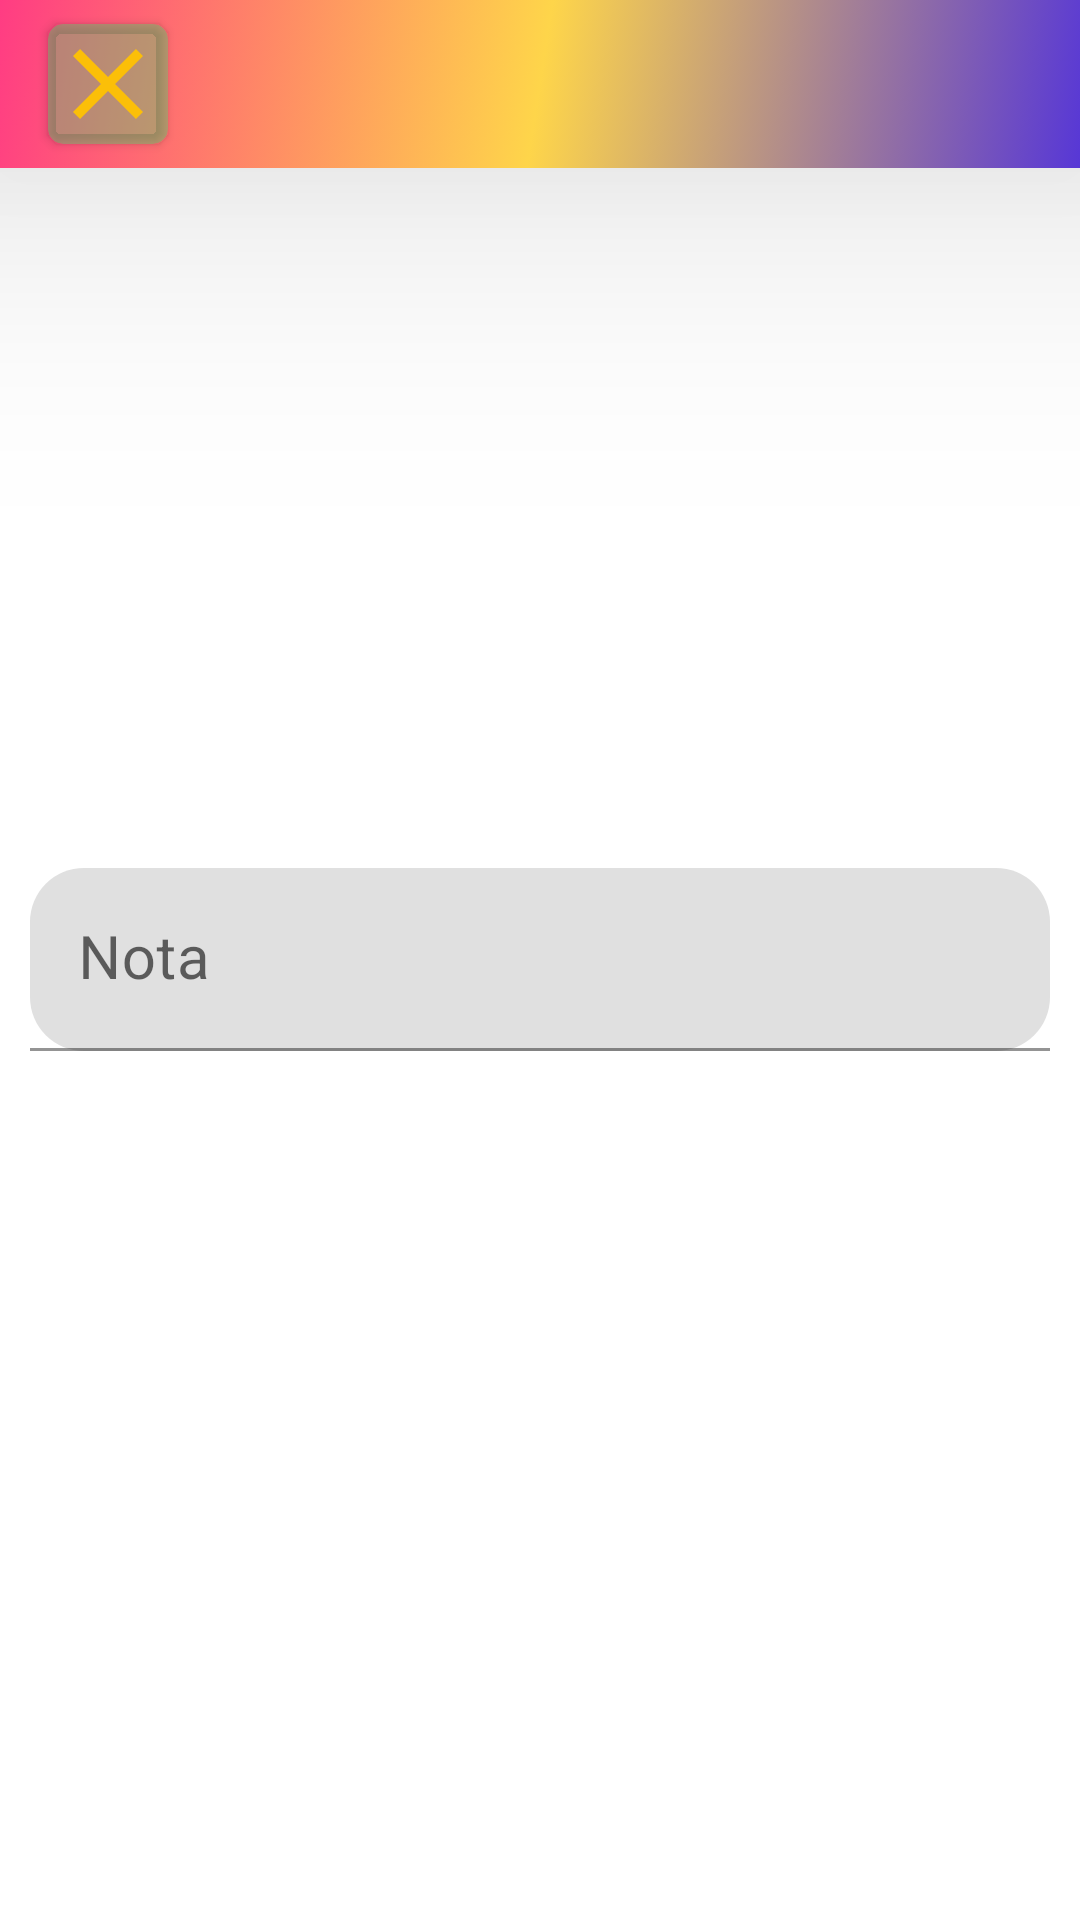

Screen size 1080*1920. Icon name, then its center in pixels as [x,y]:
cancel: [108,84]
